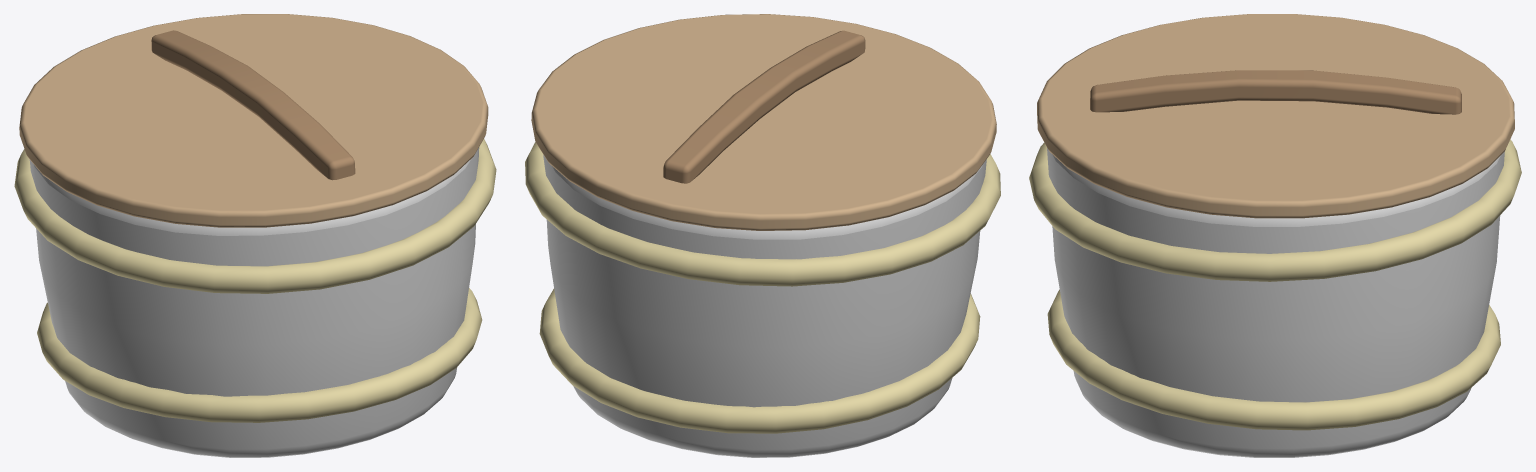
File: pg_water_drum_3.glb
The picture shows the model from 3 angles, left to right: view 1: azimuth 30°, elevation 25°; view 2: azimuth 150°, elevation 25°; view 3: azimuth 270°, elevation 25°; orthographic projection. The views are drawn at different scales.
Visible parts, largest first — view 1: pg_water_drum_3_plank, pg_water_drum_3_pg_stave, pg_water_drum_3_bamboo, pg_water_drum_3_timber; view 2: pg_water_drum_3_plank, pg_water_drum_3_pg_stave, pg_water_drum_3_bamboo, pg_water_drum_3_timber; view 3: pg_water_drum_3_pg_stave, pg_water_drum_3_plank, pg_water_drum_3_bamboo, pg_water_drum_3_timber.
Boxes of the visible parts, box(x1,y1,x2,y2) form: pg_water_drum_3_plank: box(19, 14, 488, 227); pg_water_drum_3_pg_stave: box(29, 147, 479, 457); pg_water_drum_3_bamboo: box(14, 139, 496, 422); pg_water_drum_3_timber: box(151, 30, 355, 180); pg_water_drum_3_plank: box(531, 14, 996, 230); pg_water_drum_3_pg_stave: box(543, 155, 986, 457); pg_water_drum_3_bamboo: box(525, 142, 1000, 433); pg_water_drum_3_timber: box(663, 30, 865, 183); pg_water_drum_3_pg_stave: box(1047, 148, 1504, 457); pg_water_drum_3_plank: box(1037, 14, 1514, 218); pg_water_drum_3_bamboo: box(1029, 139, 1521, 430); pg_water_drum_3_timber: box(1090, 70, 1461, 114).
Bounding box in the file's own units: 0.9146 × 0.6353 × 0.9147.
